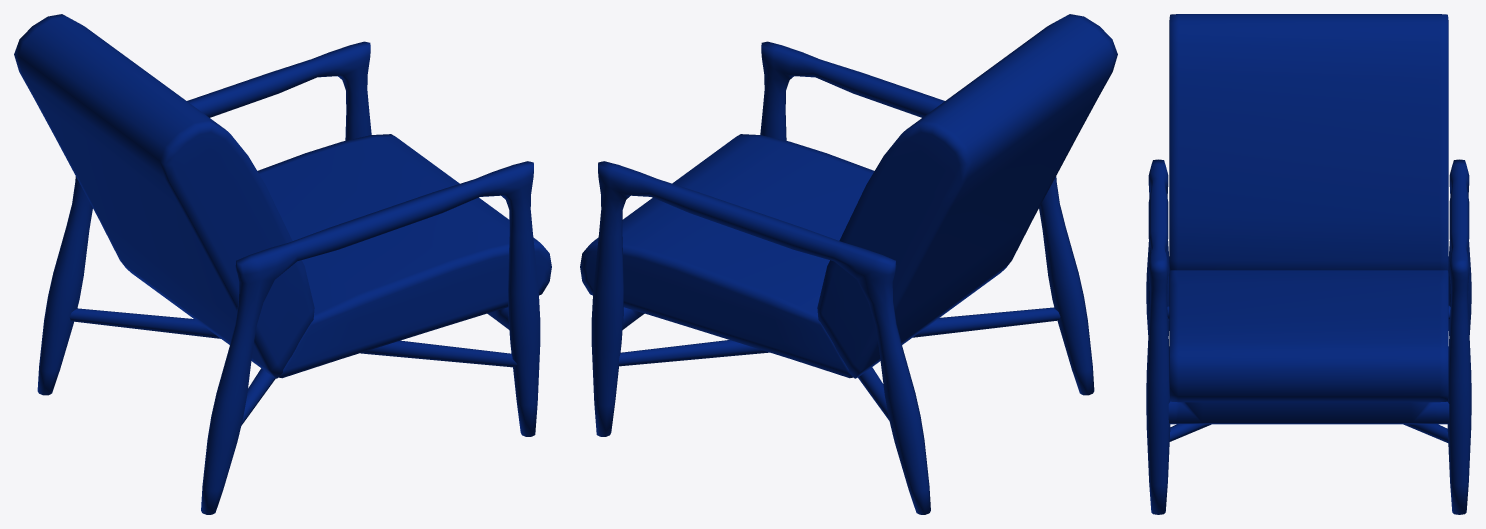
Rendered from Sofa01.FBX.
3 views of the same model, side by side, from view 1: azimuth 30°, elevation 25°; view 2: azimuth 150°, elevation 25°; view 3: azimuth 270°, elevation 25° (orthographic). The views are drawn at different scales.
Parts seen in each view (by area): view 1: Sofa01; view 2: Sofa01; view 3: Sofa01.
Boxes of the visible parts, x1=… form: Sofa01: x1=14, y1=14, x2=551, y2=514; Sofa01: x1=580, y1=14, x2=1117, y2=514; Sofa01: x1=1146, y1=14, x2=1471, y2=514.
Bounding box in the file's own units: 84.43 × 79.51 × 66.58.
